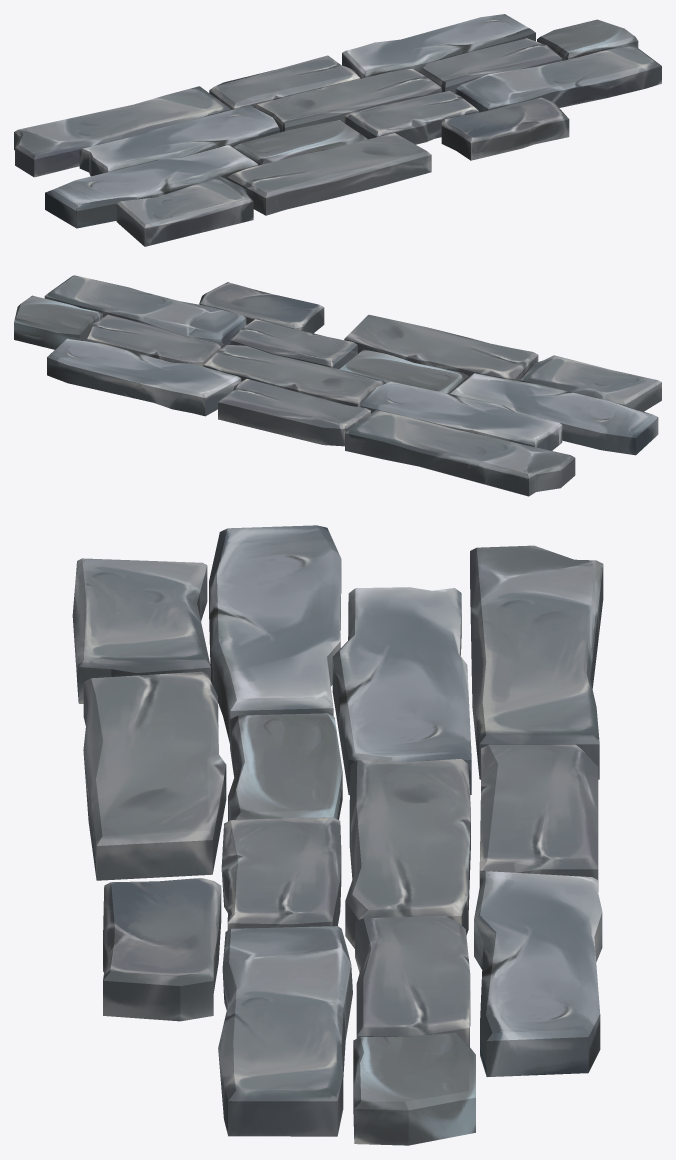
File: dimian03.fbx
3 views of the same model, one above another, from view 1: azimuth 30°, elevation 25°; view 2: azimuth 150°, elevation 25°; view 3: azimuth 270°, elevation 25° (orthographic). The views are drawn at different scales.
Parts seen in each view (by area): view 1: DIMI002; view 2: DIMI002; view 3: DIMI002.
Part boxes in pixels (x1,y1,x2,y2): DIMI002: [14, 14, 661, 246]; DIMI002: [14, 275, 661, 496]; DIMI002: [72, 525, 603, 1145].
Size of the model in its own units: 380 by 14.33 by 146.
Materials: 1 (1 with a texture image).
